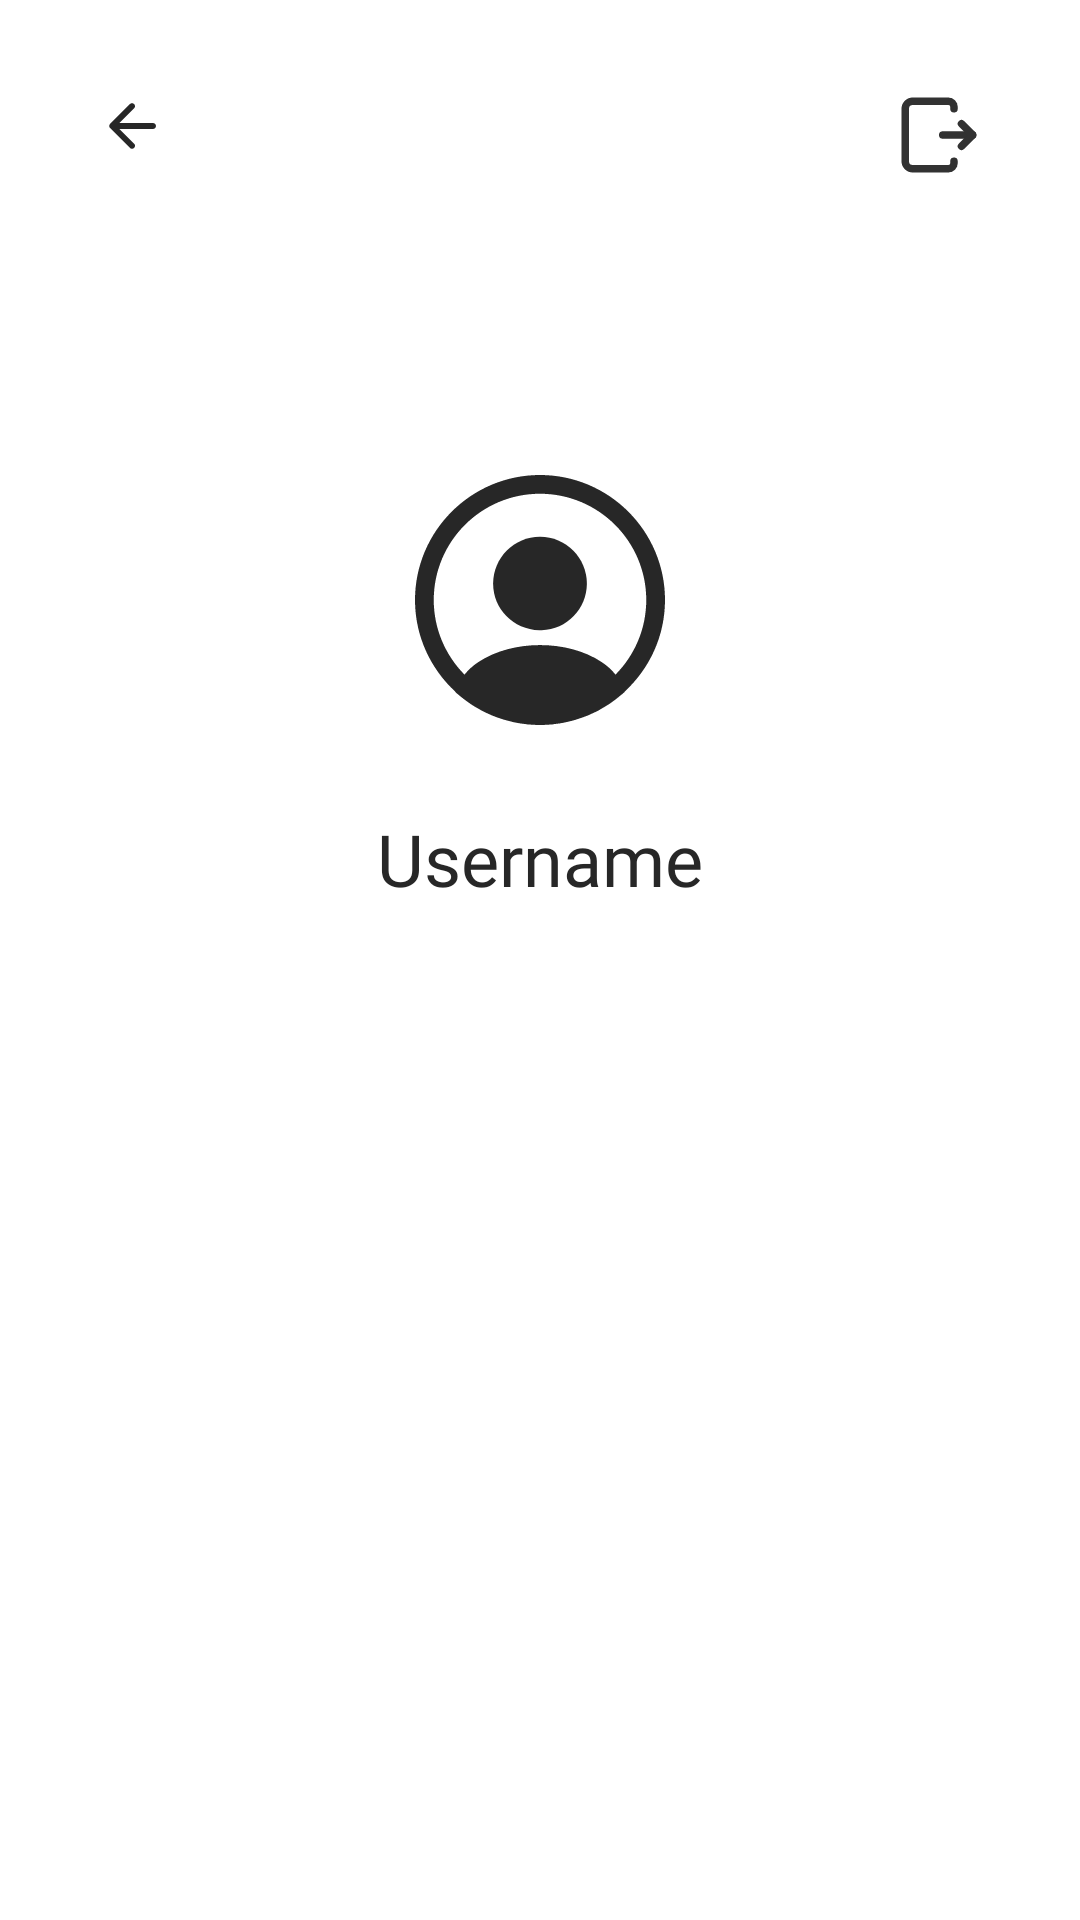

Icons on this 1080x1920 Android screen, each with the point to tap as point (x, y):
arrow back: point (132, 126)
profile circle: point (540, 600)
